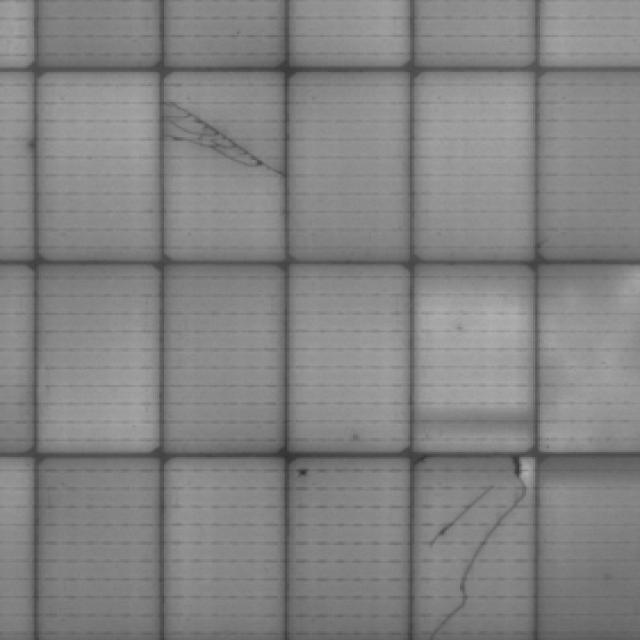CRACK: (154, 78, 296, 202), (446, 448, 541, 632)
